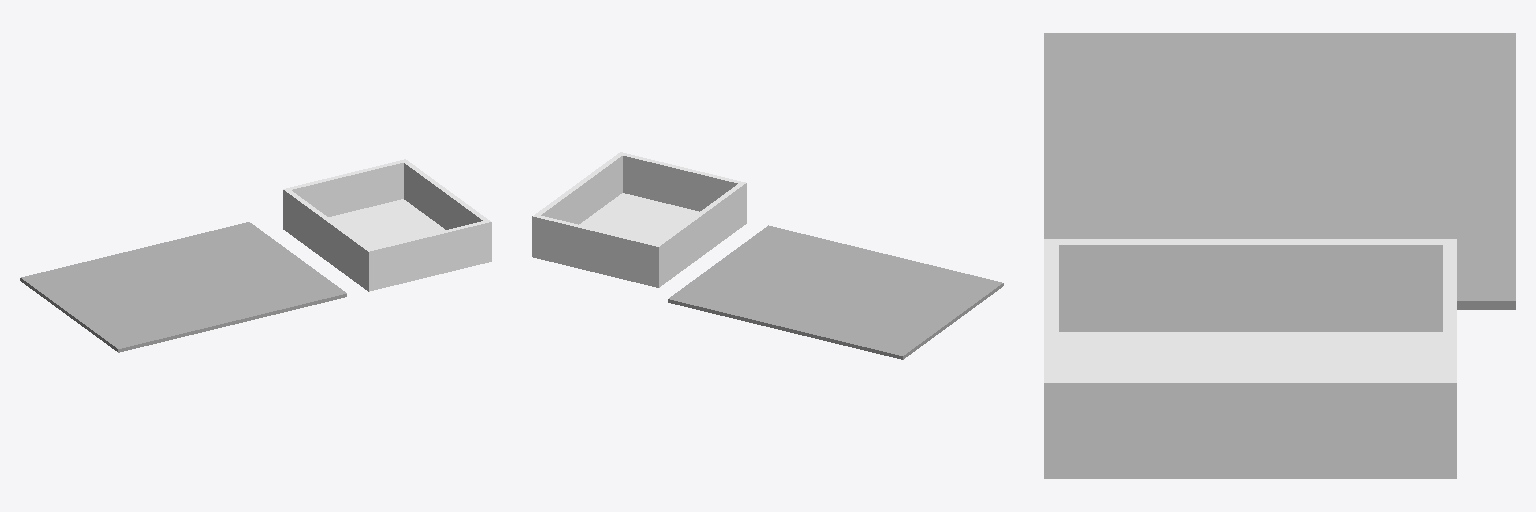
robot.urdf — table_board_fix:
<robot
  name="table_board_fix">
  <link
    name="table">
    <inertial>
      <origin
        xyz="3.296E-17 -0.0068419 -0.20655"
        rpy="0 0 0" />
      <mass
        value="83.702" />
      <inertia
        ixx="19.272"
        ixy="1.1981E-15"
        ixz="-5.4509E-15"
        iyy="19.55"
        iyz="0.40239"
        izz="19.98" />
    </inertial>
    <visual>
      <origin
        xyz="0 0 0"
        rpy="0 0 0" />
      <geometry>
        <mesh
          filename="package://table_board_fix/meshes/table.STL" />
      </geometry>
      <material
        name="">
        <color
          rgba="1 1 1 1" />
        <texture
          filename="package://table_board_fix/textures/table_color.jpg" />
      </material>
    </visual>
    <collision>
      <origin
        xyz="0 0 0"
        rpy="0 0 0" />
      <geometry>
        <mesh
          filename="package://table_board_fix/meshes/table.STL" />
      </geometry>
    </collision>
  </link>
  <link
    name="left_basket">
    <inertial>
      <origin
        xyz="-5.5511E-17 5.5511E-17 0.022949"
        rpy="0 0 0" />
      <mass
        value="2.0243" />
      <inertia
        ixx="0.031947"
        ixy="-6.6313E-18"
        ixz="-2.4676E-18"
        iyy="0.023762"
        iyz="-7.8627E-18"
        izz="0.052372" />
    </inertial>
    <visual>
      <origin
        xyz="0 0 0"
        rpy="0 0 0" />
      <geometry>
        <mesh
          filename="package://table_board_fix/meshes/left_basket.STL" />
      </geometry>
      <material
        name="">
        <color
          rgba="1 1 1 1" />
        <texture
          filename="package://table_board_fix/textures/blue.jpg" />
      </material>
    </visual>
    <collision>
      <origin
        xyz="0 0 0"
        rpy="0 0 0" />
      <geometry>
        <mesh
          filename="package://table_board_fix/meshes/left_basket.STL" />
      </geometry>
    </collision>
  </link>
  <joint
    name="left_fixed"
    type="fixed">
    <origin
      xyz="0.295 -0.12542 0.008"
      rpy="0 0 0" />
    <parent
      link="table" />
    <child
      link="left_basket" />
    <axis
      xyz="0 0 0" />
  </joint>
  <link
    name="right_board">
    <inertial>
      <origin
        xyz="8.3267E-17 0 -0.004"
        rpy="0 0 0" />
      <mass
        value="1.728" />
      <inertia
        ixx="0.023049"
        ixy="-7.5343E-18"
        ixz="-5.8775E-36"
        iyy="0.042"
        iyz="0"
        izz="0.06503" />
    </inertial>
    <visual>
      <origin
        xyz="0 0 0"
        rpy="0 0 0" />
      <geometry>
        <mesh
          filename="package://table_board_fix/meshes/right_board.STL" />
      </geometry>
      <material
        name="">
        <color
          rgba="0.75294 0.75294 0.75294 1" />
        <texture
          filename="package://table_board_fix/textures/green.jpg" />
      </material>
    </visual>
    <collision>
      <origin
        xyz="0 0 0"
        rpy="0 0 0" />
      <geometry>
        <mesh
          filename="package://table_board_fix/meshes/right_board.STL" />
      </geometry>
    </collision>
  </link>
  <joint
    name="right_fixed"
    type="fixed">
    <origin
      xyz="-0.17 -0.10042 0.008"
      rpy="0 0 0" />
    <parent
      link="table" />
    <child
      link="right_board" />
    <axis
      xyz="0 0 0" />
  </joint>
</robot>

--- What the picture shows (computed from the rendered views, not written in the file) ---
Views: 3 orthographic renders of the robot side by side, from view 1: azimuth 30°, elevation 25°; view 2: azimuth 150°, elevation 25°; view 3: azimuth 270°, elevation 25°.
Model table_board_fix with 3 links and 2 joints (2 fixed), rooted at table, posed every joint at zero.
Links seen in each view (by area): view 1: right_board, left_basket; view 2: right_board, left_basket; view 3: right_board, left_basket.
Boxes of the visible links, <box> form: right_board: <box>20,222,346,352</box>; left_basket: <box>283,159,491,291</box>; right_board: <box>668,225,1003,359</box>; left_basket: <box>532,152,746,287</box>; right_board: <box>1044,33,1515,309</box>; left_basket: <box>1044,239,1456,478</box>.
Size in the robot's own frame: 0.88 by 0.4 by 0.09 metres.
Meshes: 3 distinct files referenced, 2 mesh visuals loaded (2 binary STL); not drawn: 1 (reference not matched to a file when rendering).